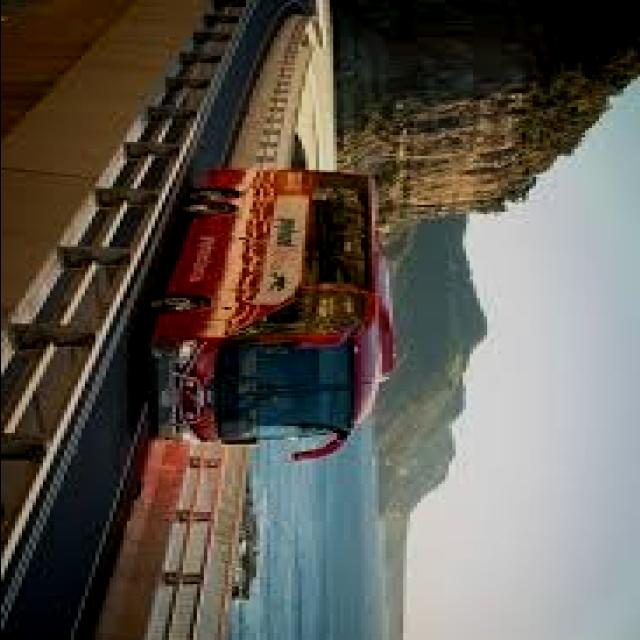bus: (134, 160, 402, 464)
